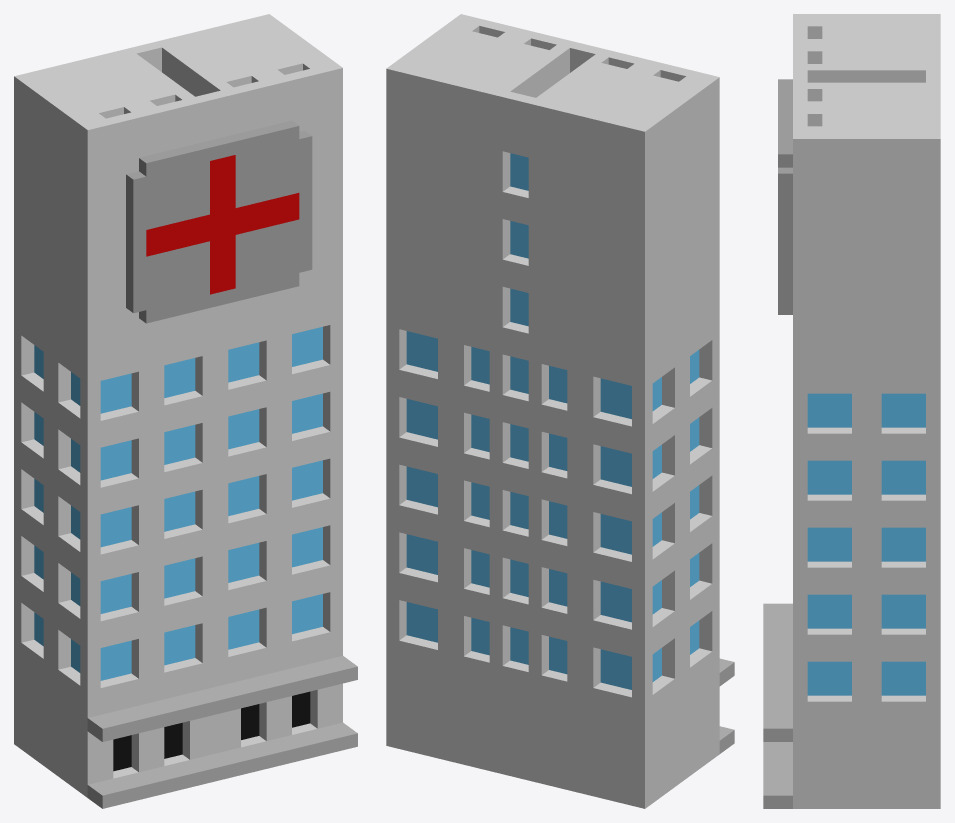
Rendered from Hospital.obj.
3 renders of one model, left to right at view 1: azimuth 30°, elevation 25°; view 2: azimuth 150°, elevation 25°; view 3: azimuth 270°, elevation 25°, orthographic.
Bounding box in the file's own units: 2 × 5 × 1.2.
Materials: 1 (1 with a texture image).
